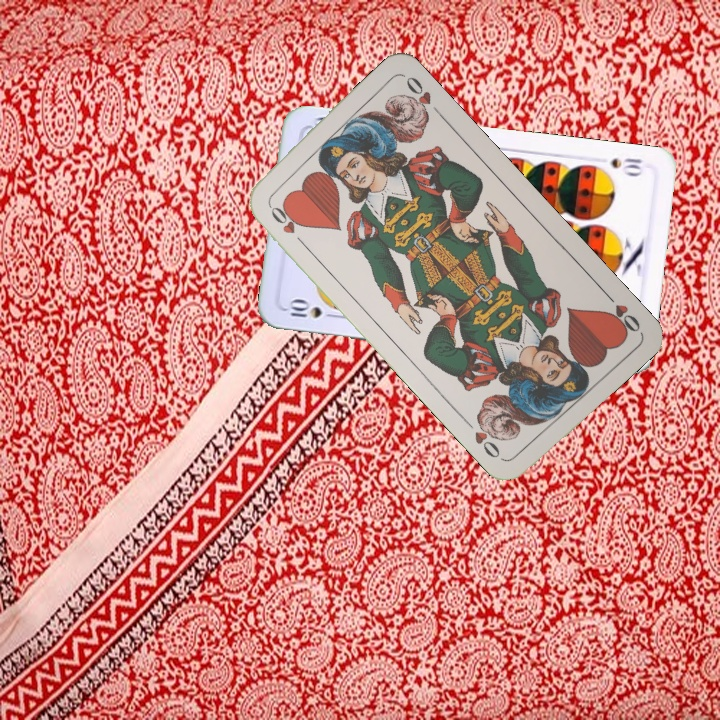HO: (598, 286, 643, 337), (264, 199, 308, 248)
S10: (282, 297, 341, 321), (607, 153, 645, 179)
